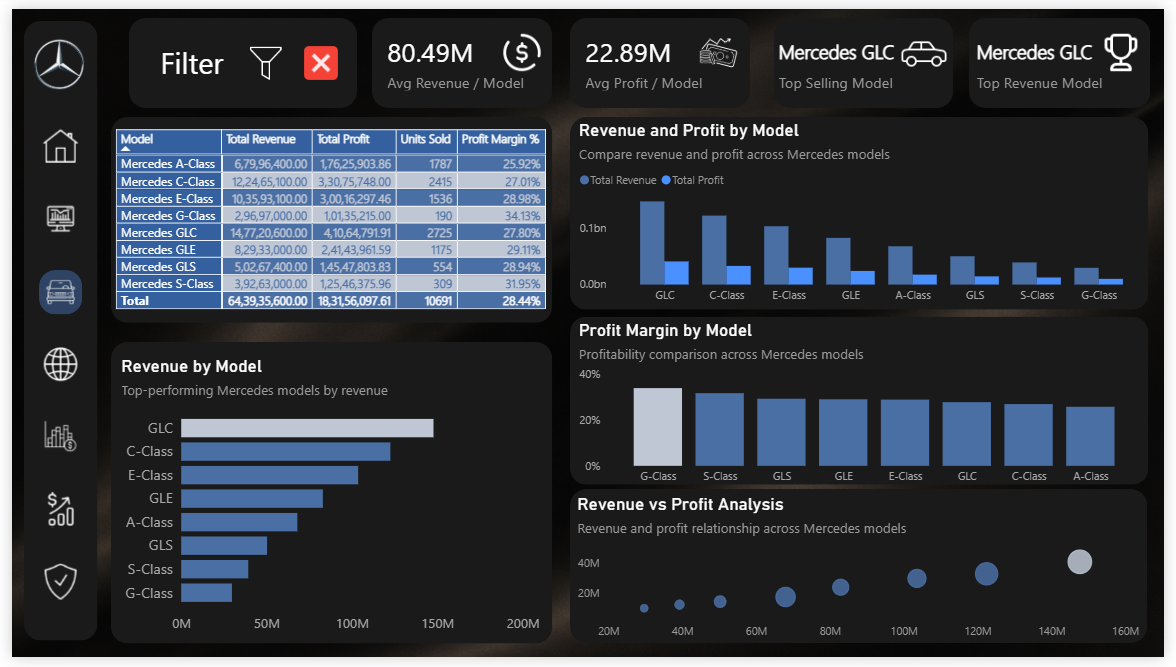

Layout of this report page (visuals, bound fields, positions):
{"tool":"powerbi","page":{"name":"Home Page","canvas":[1280,720],"ordinal":0},"visuals":[{"type":"image","box":[0,8,86,68],"z":0},{"type":"textbox","box":[1154,18,126,38],"z":1000},{"type":"image","box":[1104,18,46,38],"z":2000},{"type":"textbox","box":[84,22,180,46],"z":3000},{"type":"textbox","box":[15.6,106.2,271.9,39.1],"z":4000},{"type":"textbox","box":[15.6,150,428.1,168.8],"z":5000},{"type":"shape","box":[21.9,309.4,134.4,12.5],"z":6000},{"type":"textbox","box":[15.6,321.9,375,76.6],"z":7000},{"type":"group","id":"g1","title":"Group 1","box":[12.5,412.5,146.9,110.9],"z":8000},{"type":"shape","box":[178.1,415.6,146.9,100],"z":8000,"group":"g5"},{"type":"shape","box":[346.9,415.6,146.9,100],"z":8000,"group":"g4"},{"type":"shape","box":[10.9,541.1,146.9,100],"z":8000,"group":"g2"},{"type":"image","box":[178.1,412.5,68.8,60.9],"z":9000,"group":"g5"},{"type":"group","id":"g2","title":"Group 2","box":[10.9,541.1,146.9,106.2],"z":9000},{"type":"textbox","box":[182.8,465.6,114.1,57.8],"z":10000,"group":"g5"},{"type":"group","id":"g3","title":"Group 3","box":[178.1,540.6,146.9,106.2],"z":10000},{"type":"shape","box":[347.4,540.6,146.9,100],"z":10000,"group":"g6"},{"type":"shape","box":[12.5,415.6,146.9,100],"z":11000,"group":"g1"},{"type":"image","box":[345.3,418.7,68.8,48.4],"z":11000,"group":"g4"},{"type":"textbox","box":[296.9,471.9,23.4,43.8],"z":11000,"group":"g5"},{"type":"group","id":"g4","title":"Group 5","box":[345.3,415.6,148.4,107.8],"z":12000},{"type":"textbox","box":[353.4,466,90.6,57.8],"z":12000,"group":"g4"},{"type":"shape","box":[178.1,540.6,146.9,100],"z":12000,"group":"g3"},{"type":"group","id":"g5","title":"Group 6","box":[178.1,412.5,146.9,110.9],"z":13000},{"type":"image","box":[344.8,544.3,64.1,45.3],"z":13000,"group":"g6"},{"type":"image","box":[12.5,412.5,68.8,60.9],"z":14000,"group":"g1"},{"type":"textbox","box":[467.2,471.8,23.4,43.8],"z":14000,"group":"g4"},{"type":"textbox","box":[353.1,589,114.1,57.8],"z":14000,"group":"g6"},{"type":"image","box":[10.9,542.7,68.8,54.7],"z":17000,"group":"g2"},{"type":"textbox","box":[467.2,596.8,23.4,43.8],"z":18000,"group":"g6"},{"type":"group","id":"g6","title":"Group 4","box":[344.8,540.6,149.5,106.2],"z":18001},{"type":"image","box":[178.1,543.7,60.9,45.3],"z":19000,"group":"g3"},{"type":"textbox","box":[21.9,465.6,90.6,57.8],"z":20000,"group":"g1"},{"type":"textbox","box":[20.3,589.5,90.6,57.8],"z":22000,"group":"g2"},{"type":"textbox","box":[182.8,589,103.1,57.8],"z":24000,"group":"g3"},{"type":"textbox","box":[126.5,597.3,23.4,43.8],"z":26000,"group":"g2"},{"type":"textbox","box":[296.9,596.8,23.4,43.8],"z":28000,"group":"g3"},{"type":"textbox","box":[132.8,473.4,23.4,43.8],"z":31000,"group":"g1"}]}

Visuals, with their boxes on the page's 1280x720 design canvas (x1, y1, x2, y2). These are canvas units, not pixel positions in the 1176x667 screenshot, which may show the page scaled, cropped or inside an application window:
image: bbox=(0, 8, 86, 76)
textbox: bbox=(1154, 18, 1280, 56)
image: bbox=(1104, 18, 1150, 56)
textbox: bbox=(84, 22, 264, 68)
textbox: bbox=(16, 106, 288, 145)
textbox: bbox=(16, 150, 444, 319)
shape: bbox=(22, 309, 156, 322)
textbox: bbox=(16, 322, 391, 398)
"Group 1" group: bbox=(12, 412, 159, 523)
shape: bbox=(178, 416, 325, 516)
shape: bbox=(347, 416, 494, 516)
shape: bbox=(11, 541, 158, 641)
image: bbox=(178, 412, 247, 473)
"Group 2" group: bbox=(11, 541, 158, 647)
textbox: bbox=(183, 466, 297, 523)
"Group 3" group: bbox=(178, 541, 325, 647)
shape: bbox=(347, 541, 494, 641)
shape: bbox=(12, 416, 159, 516)
image: bbox=(345, 419, 414, 467)
textbox: bbox=(297, 472, 320, 516)
"Group 5" group: bbox=(345, 416, 494, 523)
textbox: bbox=(353, 466, 444, 524)
shape: bbox=(178, 541, 325, 641)
"Group 6" group: bbox=(178, 412, 325, 523)
image: bbox=(345, 544, 409, 590)
image: bbox=(12, 412, 81, 473)
textbox: bbox=(467, 472, 491, 516)
textbox: bbox=(353, 589, 467, 647)
image: bbox=(11, 543, 80, 597)
textbox: bbox=(467, 597, 491, 641)
"Group 4" group: bbox=(345, 541, 494, 647)
image: bbox=(178, 544, 239, 589)
textbox: bbox=(22, 466, 112, 523)
textbox: bbox=(20, 590, 111, 647)
textbox: bbox=(183, 589, 286, 647)
textbox: bbox=(126, 597, 150, 641)
textbox: bbox=(297, 597, 320, 641)
textbox: bbox=(133, 473, 156, 517)
